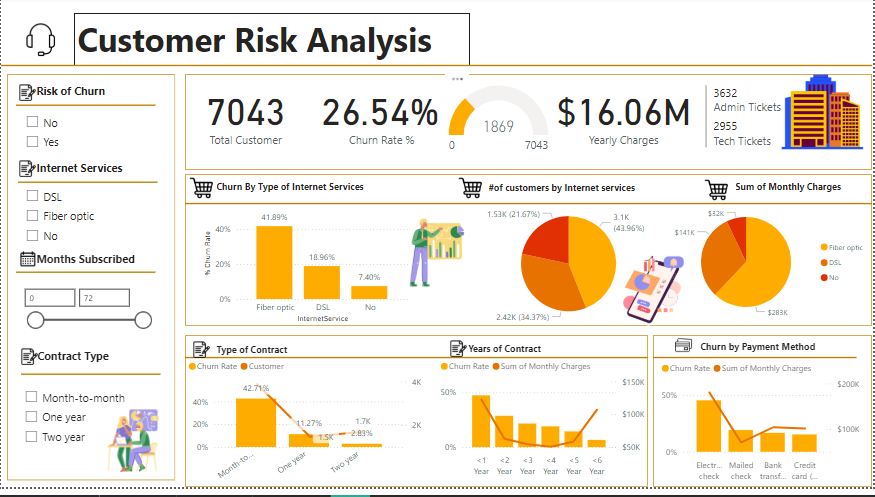

What the dashboard file says about the page in this screenshot:
{"tool":"powerbi","page":{"name":"Page 3","canvas":[1280,720],"ordinal":2},"visuals":[{"type":"shape","box":[8.7,113,247.3,597],"z":0},{"type":"shape","box":[270.5,113,1009.5,141],"z":1000},{"type":"shape","box":[270.5,259.9,1009.5,223.2],"z":2000},{"type":"shape","box":[270.5,496.5,680.1,223.2],"z":3000},{"type":"shape","box":[958.3,496.5,321.7,223.2],"z":4000},{"type":"slicer","fields":{"Values":["Churn.Churn"]},"box":[25.1,165.2,201.9,76.3],"z":5000},{"type":"slicer","fields":{"Values":["Churn.InternetService"]},"box":[25.1,273.4,201.9,108.2],"z":6000},{"type":"slicer","fields":{"Values":["Churn.tenure"]},"box":[22.2,418.3,207.7,108.2],"z":7000},{"type":"slicer","fields":{"Values":["Churn.Contract"]},"box":[23.2,569,201.9,108.2],"z":8000},{"type":"card","fields":{"Values":["CountNonNull(Churn.customerID)"]},"box":[287.9,122.7,143,100.5],"z":9000},{"type":"card","fields":{"Values":["Churn.% Churn Rate"]},"box":[464.7,122.7,185.5,100.5],"z":10000},{"type":"card","fields":{"Values":["Sum(Churn.TotalCharges)"]},"box":[808.6,117.9,213.5,109.2],"z":11000},{"type":"multiRowCard","fields":{"Values":["Sum(Churn.numAdminTickets)","Sum(Churn.numTechTickets)"]},"box":[1029.8,125.6,130.4,115.9],"z":12000},{"type":"columnChart","fields":{"Y":["Churn.% Churn Rate"],"Category":["Churn.InternetService"]},"box":[291.7,295.6,311.1,187.4],"z":13000},{"type":"pieChart","fields":{"Y":["CountNonNull(Churn.customerID)"],"Category":["Churn.InternetService"]},"box":[689.8,292.7,289.8,199],"z":14000},{"type":"pieChart","fields":{"Category":["Churn.InternetService"],"Y":["Sum(Churn.MonthlyCharges)"]},"box":[979.6,285.9,300.4,205.8],"z":15000},{"type":"lineStackedColumnComboChart","fields":{"Y":["Churn.% Churn Rate"],"Y2":["CountNonNull(Churn.customerID)"],"Category":["Churn.Contract"]},"box":[270.5,522.6,352.6,197.1],"z":16000},{"type":"lineStackedColumnComboChart","fields":{"Y":["Churn.% Churn Rate"],"Y2":["Sum(Churn.MonthlyCharges)"],"Category":["Churn.Tenure (In years)"]},"box":[640.5,522.6,310.1,189.3],"z":17000},{"type":"lineStackedColumnComboChart","fields":{"Y":["Churn.% Churn Rate"],"Y2":["Sum(Churn.MonthlyCharges)"],"Category":["Churn.PaymentMethod"]},"box":[965.1,526.5,301.4,193.2],"z":18000},{"type":"textbox","box":[107.2,23.2,582.5,78.2],"z":19000},{"type":"shape","box":[0,81.1,1280,39.6],"z":20000},{"type":"image","box":[29.9,33.8,58,58],"z":21000},{"type":"textbox","box":[47.3,122.7,125.6,35.7],"z":22000},{"type":"shape","box":[22.2,144.9,204.8,27],"z":23000},{"type":"shape","box":[25.1,257.9,204.8,27],"z":24000},{"type":"shape","box":[22.2,391.2,204.8,27],"z":25000},{"type":"shape","box":[29.9,540,204.8,27],"z":26000},{"type":"textbox","box":[47.3,235.7,150.7,35.7],"z":27000},{"type":"textbox","box":[47.3,369,168.1,35.7],"z":28000},{"type":"textbox","box":[48.3,512,168.1,35.7],"z":29000},{"type":"gauge","fields":{"Y":["Churn.Churn Count"],"MaxValue":["CountNonNull(Churn.customerID)"]},"box":[640.5,125.6,180.6,114],"z":30000},{"type":"textbox","box":[311.1,264.7,239.6,40.6],"z":31000},{"type":"textbox","box":[711,265.7,239.6,40.6],"z":32000},{"type":"textbox","box":[1074.2,264.7,183.5,40.6],"z":33000},{"type":"shape","box":[270.5,292.7,1009.5,22.2],"z":34000},{"type":"textbox","box":[311.1,504.3,239.6,35.7],"z":35000},{"type":"textbox","box":[682,502.3,126.6,29.9],"z":36000},{"type":"textbox","box":[1022.1,499.4,199,32.8],"z":37000},{"type":"shape","box":[270.5,517.8,680.1,25.1],"z":38000},{"type":"shape","box":[958.3,515.9,299.5,28],"z":39000},{"type":"image","box":[900.3,369,115.9,122.7],"z":40000},{"type":"image","box":[141,600.9,105.3,102.4],"z":41000},{"type":"image","box":[1134.1,98.5,145.9,141],"z":42000},{"type":"image","box":[584.5,320.7,111.1,110.1],"z":43000},{"type":"image","box":[22.2,120.8,33.8,39.6],"z":44000},{"type":"image","box":[22.2,231.8,33.8,39.6],"z":45000},{"type":"image","box":[25.1,508.1,33.8,39.6],"z":46000},{"type":"image","box":[277.3,497.5,33.8,39.6],"z":47000},{"type":"image","box":[655.9,496.5,33.8,39.6],"z":48000},{"type":"image","box":[23.2,369,31.9,31.9],"z":49000},{"type":"image","box":[270.5,257.9,47.3,44.4],"z":50000},{"type":"image","box":[665.6,257.9,47.3,44.4],"z":51000},{"type":"image","box":[1026.9,260.8,47.3,44.4],"z":52000},{"type":"image","box":[984.4,493.6,37.7,34.8],"z":53000}]}

Visuals, with their boxes in screenshot pixels (x1, y1, x2, y2), scaled from the page's 1280x720 canvas onto the 875x497 screenshot:
shape: (6, 78, 175, 490)
shape: (185, 78, 874, 175)
shape: (185, 179, 874, 333)
shape: (185, 343, 650, 496)
shape: (655, 343, 874, 496)
slicer - Churn.Churn: (17, 114, 155, 167)
slicer - Churn.InternetService: (17, 189, 155, 263)
slicer - Churn.tenure: (15, 289, 157, 363)
slicer - Churn.Contract: (16, 393, 154, 467)
card - CountNonNull(Churn.customerID): (197, 85, 295, 154)
card - Churn.% Churn Rate: (318, 85, 444, 154)
card - Sum(Churn.TotalCharges): (553, 81, 699, 157)
multiRowCard - Sum(Churn.numAdminTickets) x Sum(Churn.numTechTickets): (704, 87, 793, 167)
columnChart - Churn.% Churn Rate x Churn.InternetService: (199, 204, 412, 333)
pieChart - CountNonNull(Churn.customerID) x Churn.InternetService: (472, 202, 670, 339)
pieChart - Churn.InternetService x Sum(Churn.MonthlyCharges): (670, 197, 874, 339)
lineStackedColumnComboChart - Churn.% Churn Rate x CountNonNull(Churn.customerID): (185, 361, 426, 496)
lineStackedColumnComboChart - Churn.% Churn Rate x Sum(Churn.MonthlyCharges): (438, 361, 650, 491)
lineStackedColumnComboChart - Churn.% Churn Rate x Sum(Churn.MonthlyCharges): (660, 363, 866, 496)
textbox: (73, 16, 471, 70)
shape: (0, 56, 874, 83)
image: (20, 23, 60, 63)
textbox: (32, 85, 118, 109)
shape: (15, 100, 155, 119)
shape: (17, 178, 157, 197)
shape: (15, 270, 155, 289)
shape: (20, 373, 160, 391)
textbox: (32, 163, 135, 187)
textbox: (32, 255, 147, 279)
textbox: (33, 353, 148, 378)
gauge - Churn.Churn Count x CountNonNull(Churn.customerID): (438, 87, 561, 165)
textbox: (213, 183, 376, 211)
textbox: (486, 183, 650, 211)
textbox: (734, 183, 860, 211)
shape: (185, 202, 874, 217)
textbox: (213, 348, 376, 373)
textbox: (466, 347, 553, 367)
textbox: (699, 345, 835, 367)
shape: (185, 357, 650, 375)
shape: (655, 356, 860, 375)
image: (615, 255, 695, 339)
image: (96, 415, 168, 485)
image: (775, 68, 874, 165)
image: (400, 221, 476, 297)
image: (15, 83, 38, 111)
image: (15, 160, 38, 187)
image: (17, 351, 40, 378)
image: (190, 343, 213, 371)
image: (448, 343, 471, 370)
image: (16, 255, 38, 277)
image: (185, 178, 217, 209)
image: (455, 178, 487, 209)
image: (702, 180, 734, 211)
image: (673, 341, 699, 365)
